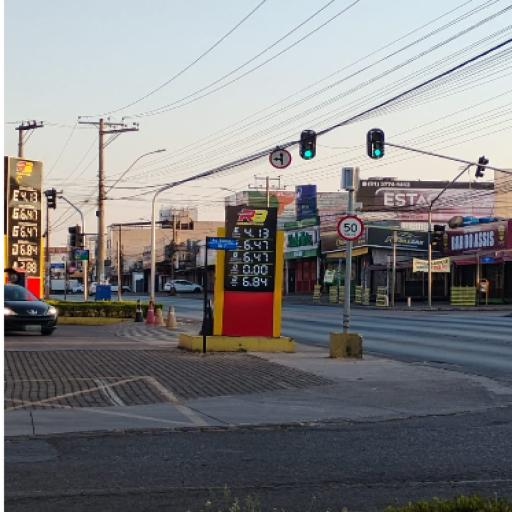ETANOL: (228, 227, 242, 238)
GASOLINA C: (228, 252, 243, 262)
S10: (228, 276, 242, 287)
placa: (222, 207, 277, 337)
preco: (244, 227, 271, 239), (242, 276, 269, 288), (243, 251, 269, 263)
